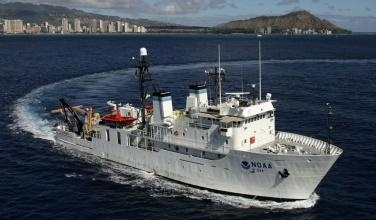otherboat: (49, 31, 349, 201)
